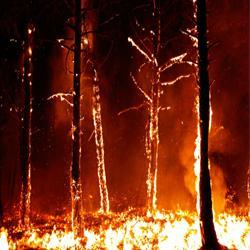fire: (43, 220, 200, 250), (215, 216, 249, 246)
